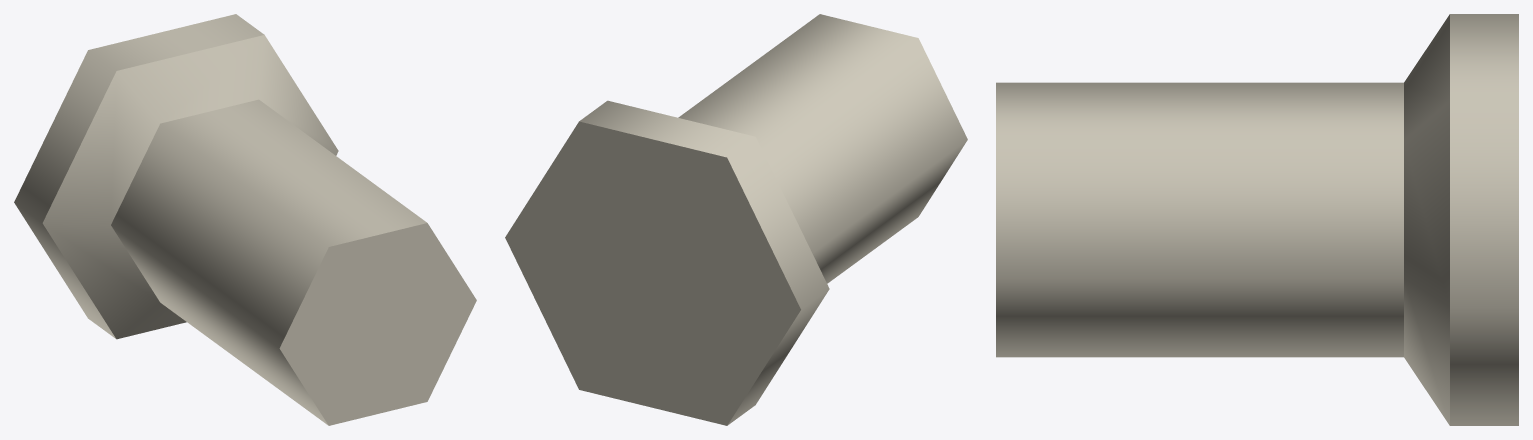
File: u73l_busbar.obj
The picture shows the model from 3 angles, left to right: view 1: azimuth 30°, elevation 25°; view 2: azimuth 150°, elevation 25°; view 3: azimuth 270°, elevation 25°; orthographic projection. The views are drawn at different scales.
Visible parts, largest first — view 1: u73l_busbar; view 2: u73l_busbar; view 3: u73l_busbar.
Part boxes in pixels (x1,y1,x2,y2): u73l_busbar: [14, 14, 476, 425]; u73l_busbar: [505, 14, 967, 425]; u73l_busbar: [996, 14, 1518, 425].
Bounding box in the file's own units: 0.72 × 0.6235 × 0.91.
